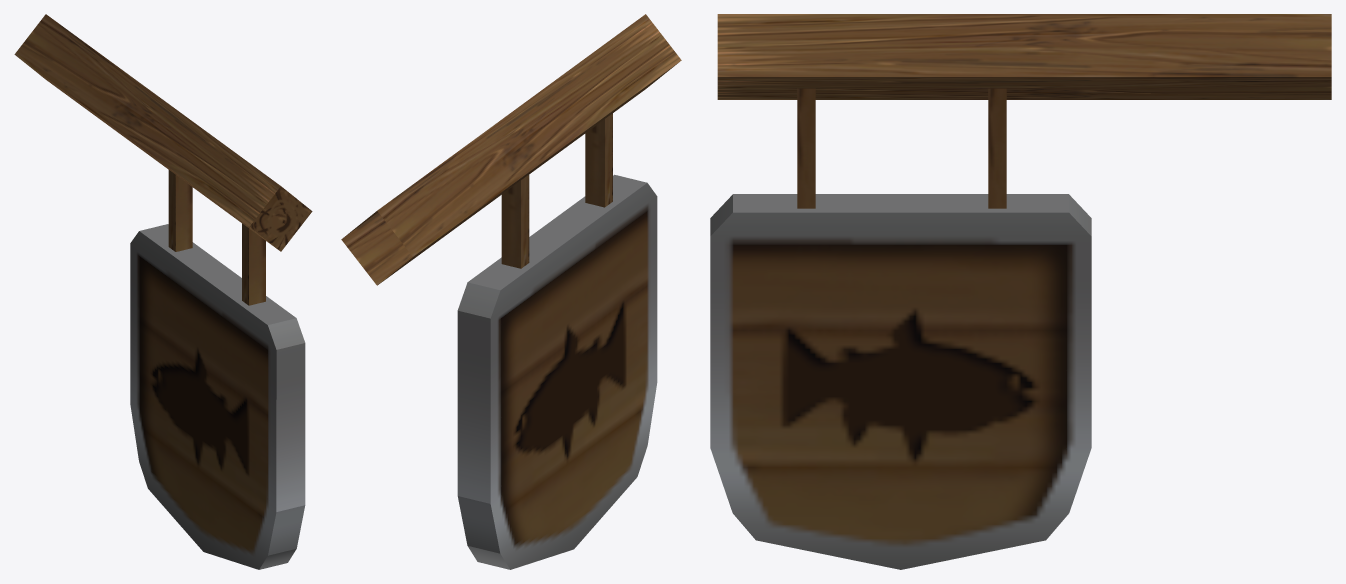
Rendered from fanasty_mod_sign02.fbx.
The picture shows the model from 3 angles, left to right: view 1: azimuth 30°, elevation 25°; view 2: azimuth 150°, elevation 25°; view 3: azimuth 270°, elevation 25°; orthographic projection. The views are drawn at different scales.
Parts seen in each view (by area): view 1: sign_02; view 2: sign_02; view 3: sign_02.
Part boxes in pixels (bbox=[...]): sign_02: bbox=[14, 14, 312, 569]; sign_02: bbox=[341, 14, 681, 569]; sign_02: bbox=[710, 14, 1331, 569].
Size of the model in its own units: 0.3613 by 2.28 by 2.37.
